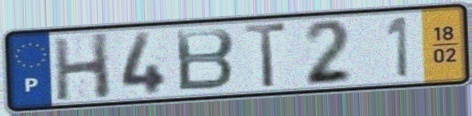1: (384, 14, 412, 80)
2: (300, 17, 355, 88)
4: (118, 29, 170, 98)
B: (173, 26, 237, 94)
H: (50, 30, 115, 103)
T: (241, 21, 291, 91)
